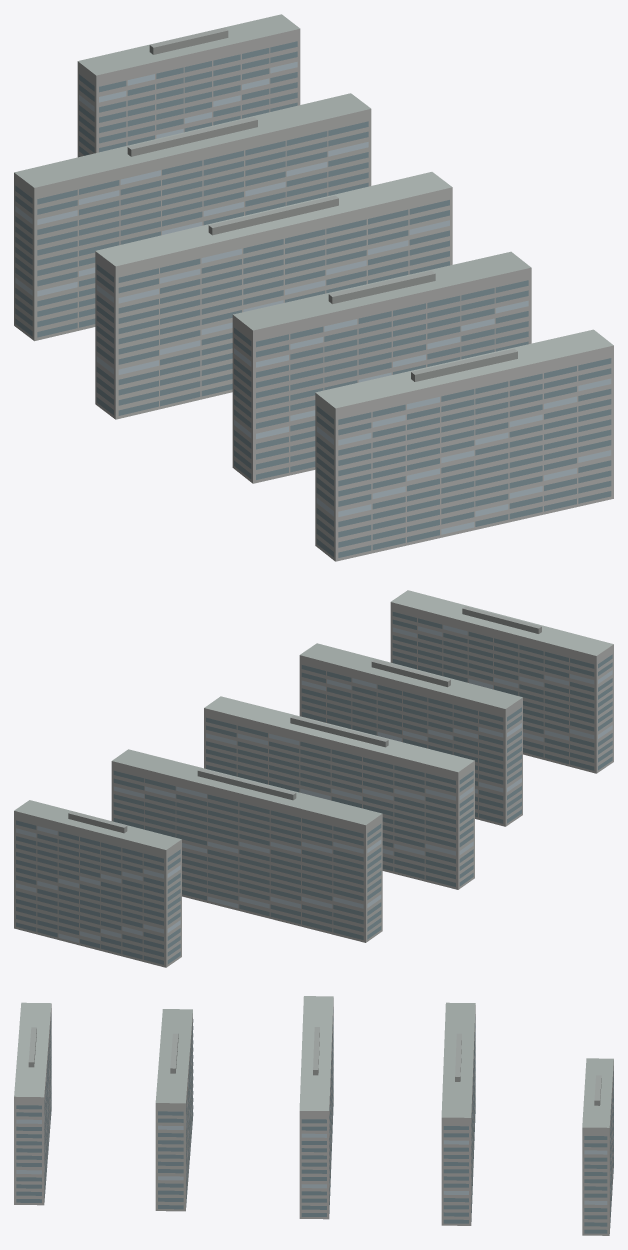
Rendered from apt-a13281802.glb.
The picture shows the model from 3 angles, top to bottom: view 1: azimuth 30°, elevation 25°; view 2: azimuth 150°, elevation 25°; view 3: azimuth 270°, elevation 25°; orthographic projection. The views are drawn at different scales.
Visible parts, largest first — view 1: apt-a13281802; view 2: apt-a13281802; view 3: apt-a13281802.
Boxes of the visible parts, x1=… form: apt-a13281802: x1=14, y1=14, x2=613, y2=561; apt-a13281802: x1=14, y1=590, x2=613, y2=967; apt-a13281802: x1=14, y1=996, x2=613, y2=1235.
Bounding box in the file's own units: 115 × 46 × 221.
